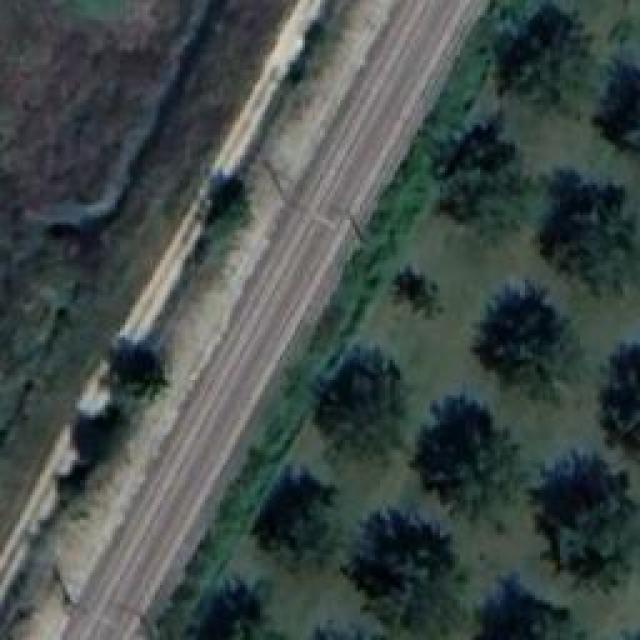Tree: (340, 512, 473, 640), (530, 170, 640, 303), (470, 282, 580, 410), (543, 457, 638, 595), (478, 3, 593, 116), (433, 115, 526, 243), (310, 343, 405, 466), (427, 403, 525, 516), (248, 463, 341, 576), (467, 575, 585, 640), (590, 53, 640, 186), (188, 575, 288, 640), (598, 338, 638, 448), (103, 348, 163, 401), (75, 408, 130, 463), (198, 178, 253, 233), (390, 265, 438, 318), (292, 625, 420, 640)
